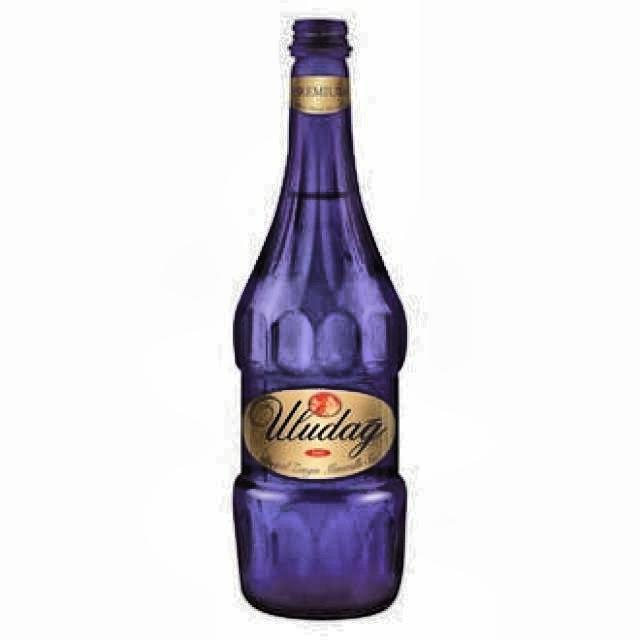glass: (232, 18, 409, 624)
